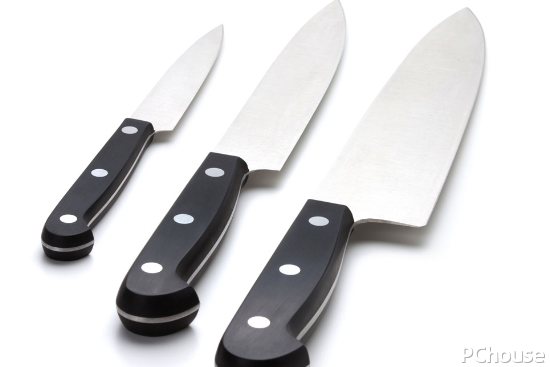knief: (212, 5, 491, 348)
